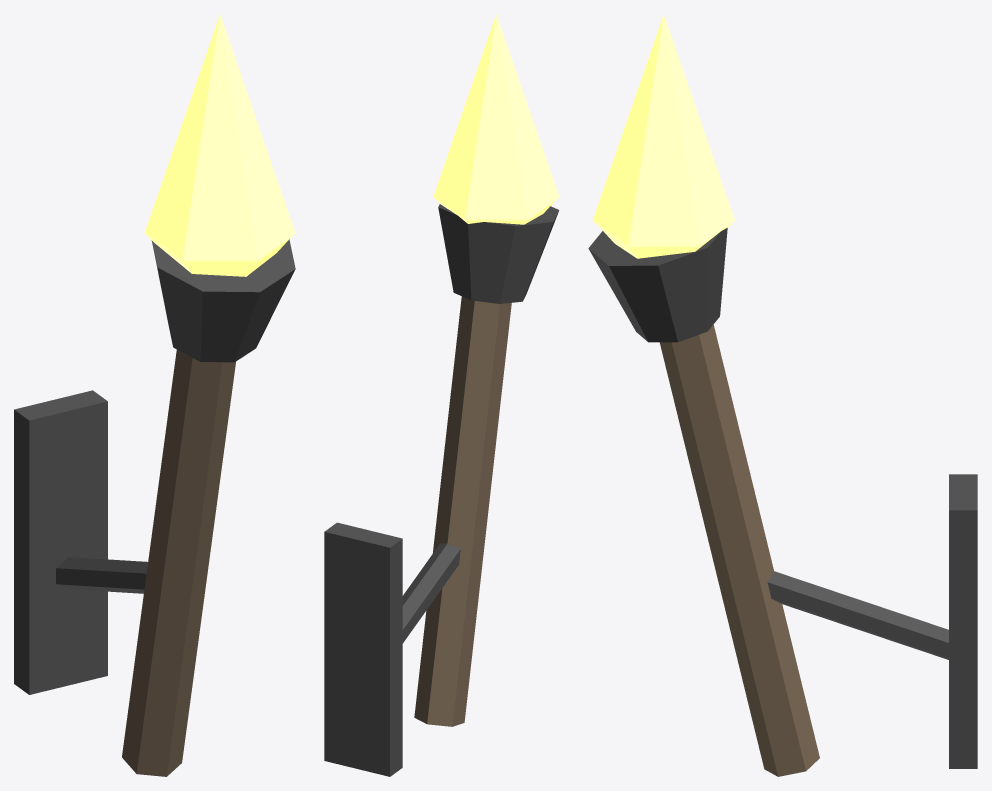
File: torch.glb
3 views of the same model, side by side, from view 1: azimuth 30°, elevation 25°; view 2: azimuth 150°, elevation 25°; view 3: azimuth 270°, elevation 25° (orthographic). The views are drawn at different scales.
Parts seen in each view (by area): view 1: iron, wood, flame; view 2: iron, wood, flame; view 3: wood, iron, flame.
Part boxes in pixels (<box>): iron: <box>14,239,295,694</box>; wood: <box>122,349,235,776</box>; flame: <box>144,14,295,276</box>; iron: <box>324,204,559,776</box>; wood: <box>414,296,511,726</box>; flame: <box>433,14,559,224</box>; wood: <box>659,325,819,776</box>; iron: <box>588,228,977,768</box>; flame: <box>592,14,734,258</box>.
Bounding box in the file's own units: 0.2 × 1.17 × 0.5458.
